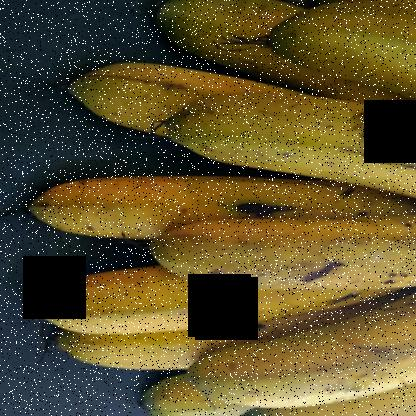ripe: (163, 98, 415, 210), (183, 296, 415, 415), (135, 216, 415, 312), (35, 263, 277, 341), (43, 56, 244, 148), (8, 181, 236, 253)
